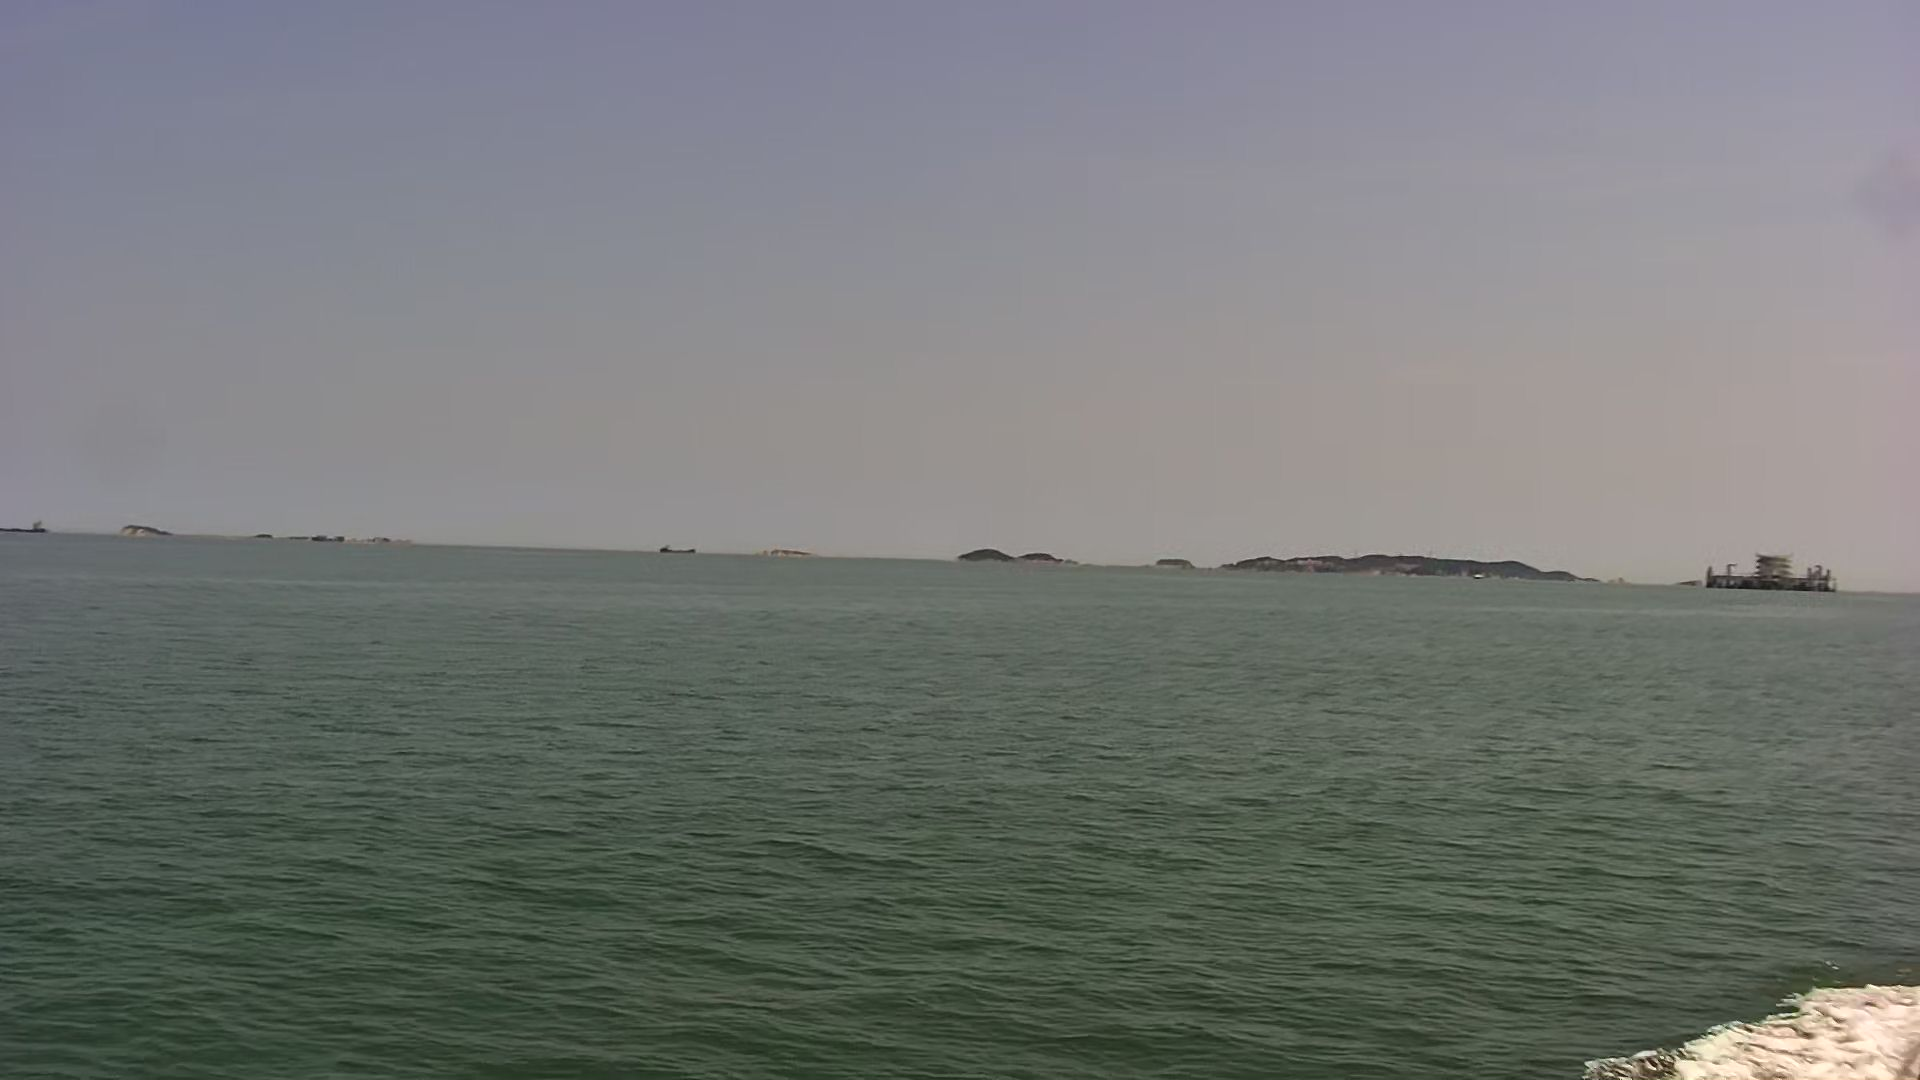platform: (1708, 549, 1844, 593)
rock: (1154, 545, 1611, 587), (949, 546, 1085, 568)
